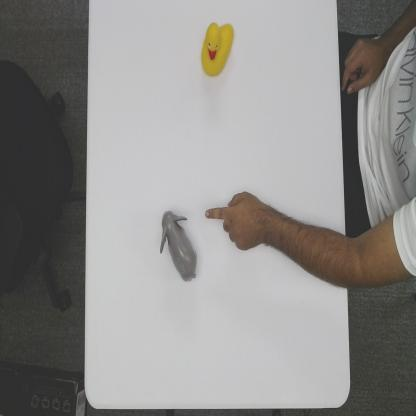Arm: (266, 206, 348, 288)
Duck: (200, 17, 234, 79)
Elephant: (159, 209, 198, 282)
Hand: (204, 191, 266, 255)
